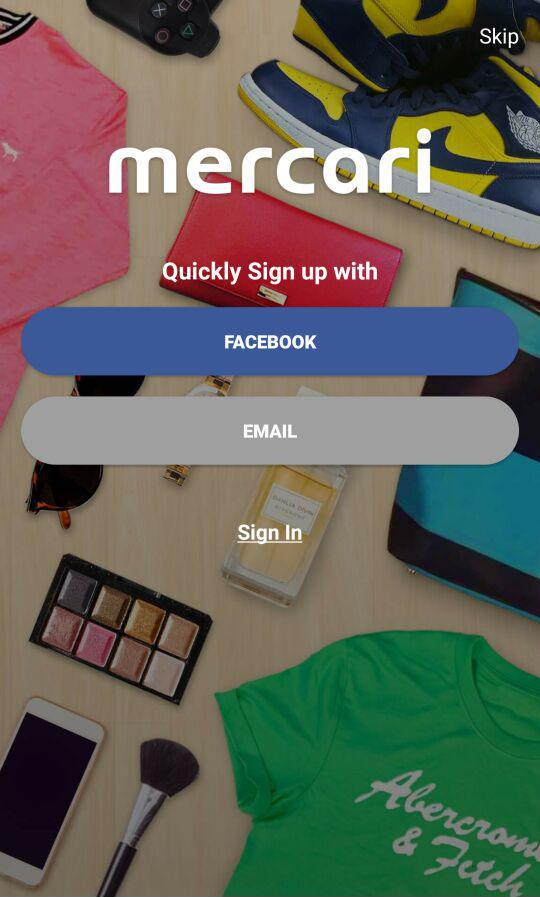BackgroundImage: (1, 1, 540, 897)
Text: (109, 128, 432, 195), (162, 260, 378, 286), (238, 523, 304, 545), (479, 27, 519, 50)
TextButton: (22, 396, 520, 466), (22, 308, 519, 376)
